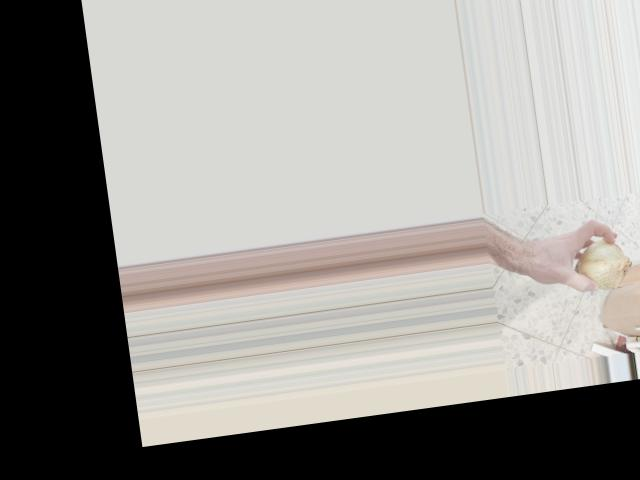onion: (567, 234, 637, 296)
